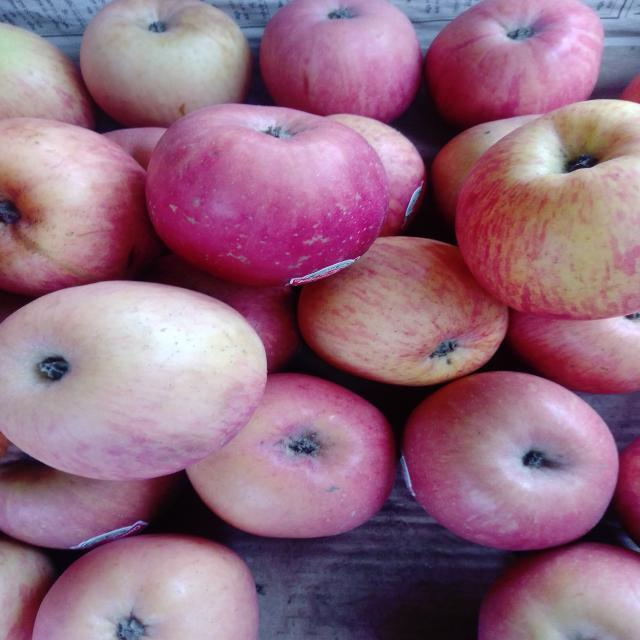Fresh Apple: (8, 285, 252, 473), (150, 108, 390, 277), (451, 110, 640, 311), (407, 374, 610, 554), (203, 368, 390, 540), (316, 228, 506, 380), (7, 117, 153, 295), (258, 5, 420, 125), (82, 2, 240, 122), (435, 7, 595, 118)
